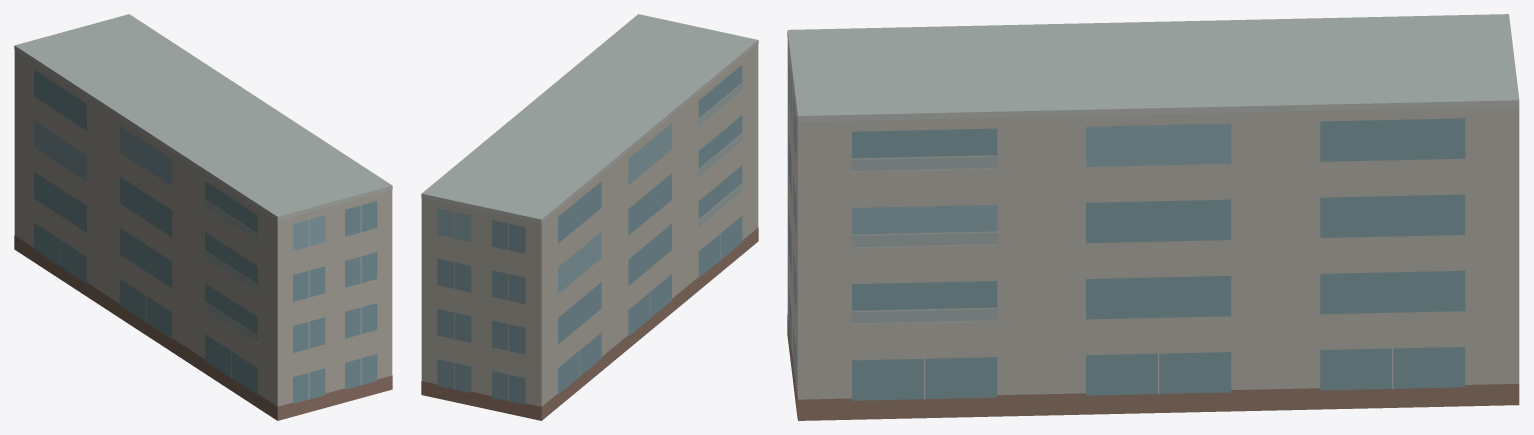
File: residential-5ddfc992-4084-4605-9d10-f59606f79081.glb
The picture shows the model from 3 angles, left to right: view 1: azimuth 30°, elevation 25°; view 2: azimuth 150°, elevation 25°; view 3: azimuth 270°, elevation 25°; orthographic projection. The views are drawn at different scales.
Visible parts, largest first — view 1: residential-5ddfc992-4084-4605-9d10-f59606f79081.tmp; view 2: residential-5ddfc992-4084-4605-9d10-f59606f79081.tmp; view 3: residential-5ddfc992-4084-4605-9d10-f59606f79081.tmp.
Part boxes in pixels (x1=…): residential-5ddfc992-4084-4605-9d10-f59606f79081.tmp: x1=14, y1=14, x2=392, y2=420; residential-5ddfc992-4084-4605-9d10-f59606f79081.tmp: x1=421, y1=14, x2=758, y2=420; residential-5ddfc992-4084-4605-9d10-f59606f79081.tmp: x1=787, y1=14, x2=1519, y2=420.
Bounding box in the file's own units: 8.77 × 12.2 × 26.56.
